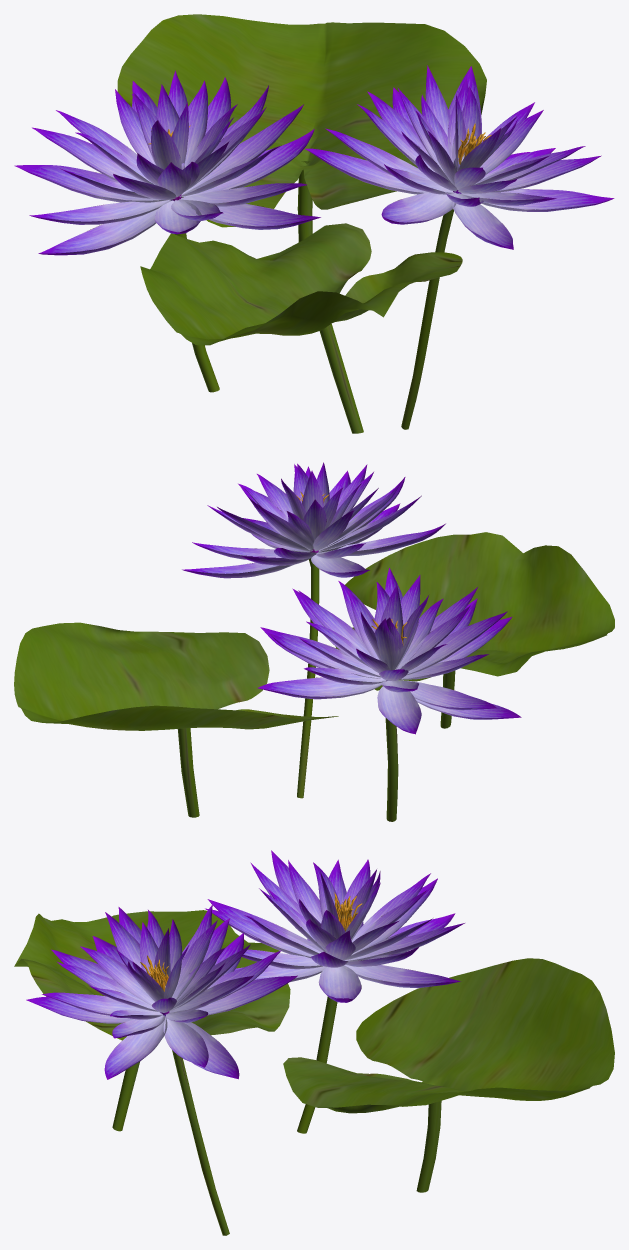
The model's file is SY-蓝莲花.fbx.
The picture shows the model from 3 angles, top to bottom: view 1: azimuth 30°, elevation 25°; view 2: azimuth 150°, elevation 25°; view 3: azimuth 270°, elevation 25°; orthographic projection. The views are drawn at different scales.
Visible parts, largest first — view 1: SY-蓝睡莲; view 2: SY-蓝睡莲; view 3: SY-蓝睡莲.
Boxes of the visible parts, bbox=[...] form: SY-蓝睡莲: bbox=[14, 14, 614, 433]; SY-蓝睡莲: bbox=[14, 462, 614, 821]; SY-蓝睡莲: bbox=[14, 850, 614, 1235].
Bounding box in the file's own units: 0.2569 × 0.3001 × 0.1738.
